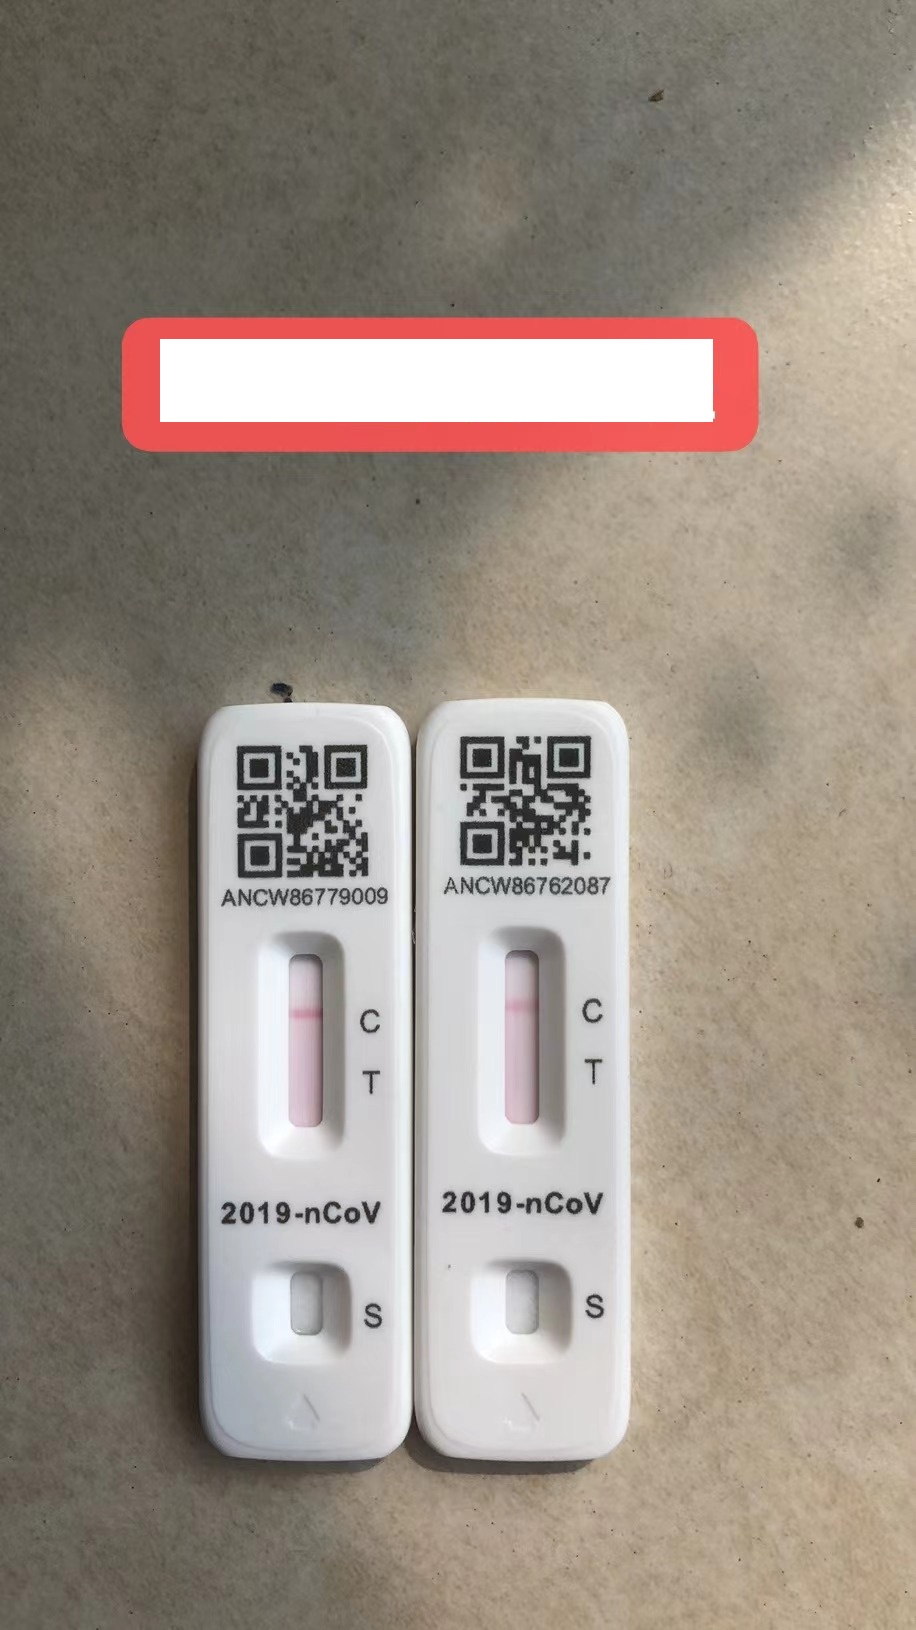negative: (480, 921, 564, 1162), (264, 927, 347, 1163)
